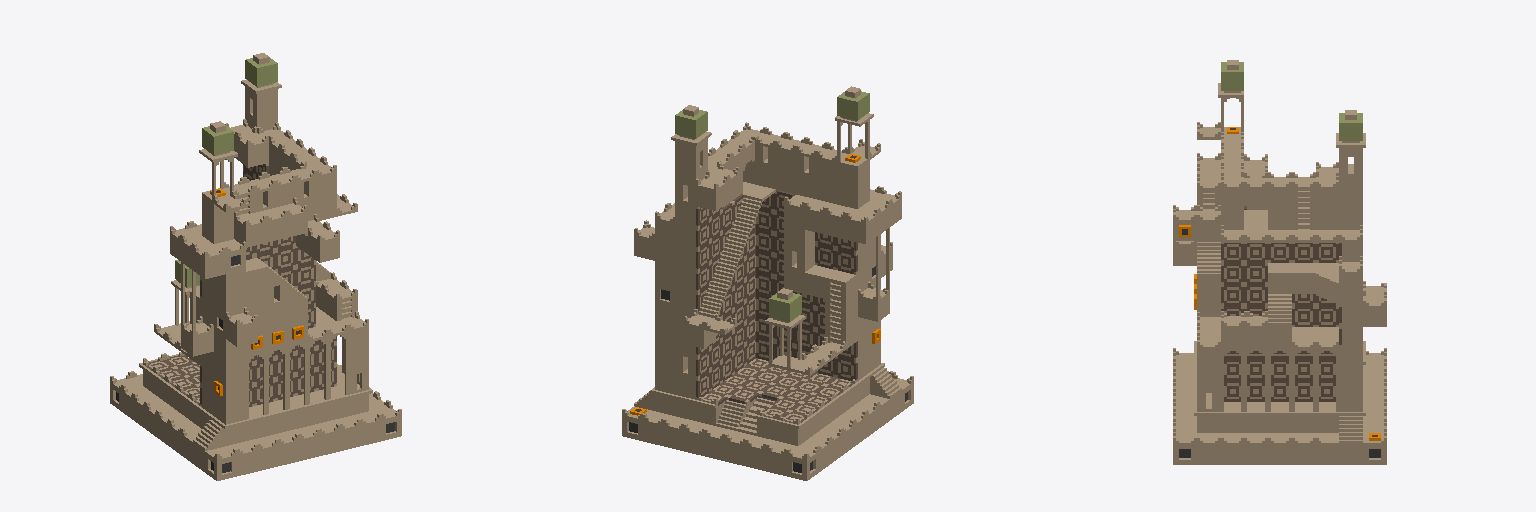
The picture shows the model from 3 angles: view 1: azimuth 30°, elevation 25°; view 2: azimuth 150°, elevation 25°; view 3: azimuth 270°, elevation 25°; orthographic projection.
Parts seen in each view (by area): view 1: monu10_edited; view 2: monu10_edited; view 3: monu10_edited.
Boxes of the visible parts, <box> form: monu10_edited: <box>110,53,401,480</box>; monu10_edited: <box>622,86,913,480</box>; monu10_edited: <box>1173,60,1386,464</box>.
Size of the model in its own units: 72 by 122 by 72.
1 materials, 1 textured.